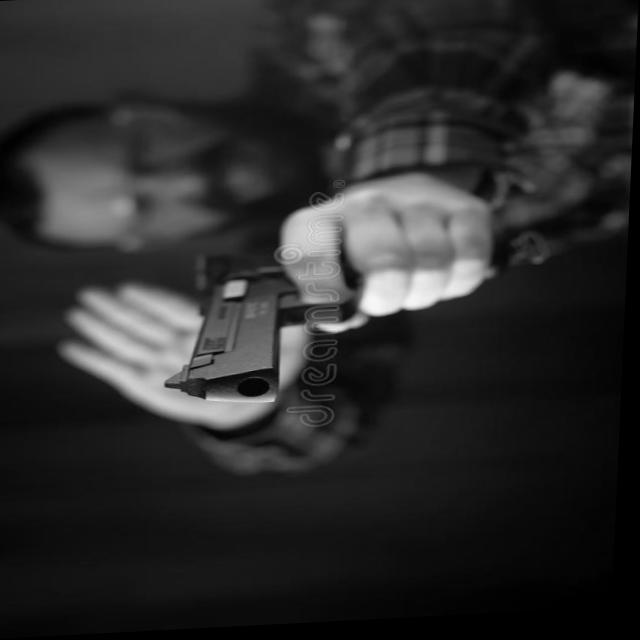handgun: (158, 231, 377, 406)
